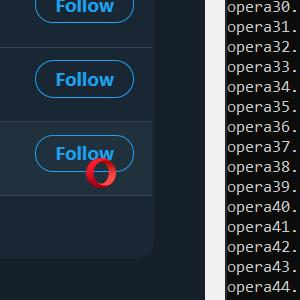opera: (86, 158, 116, 189)
